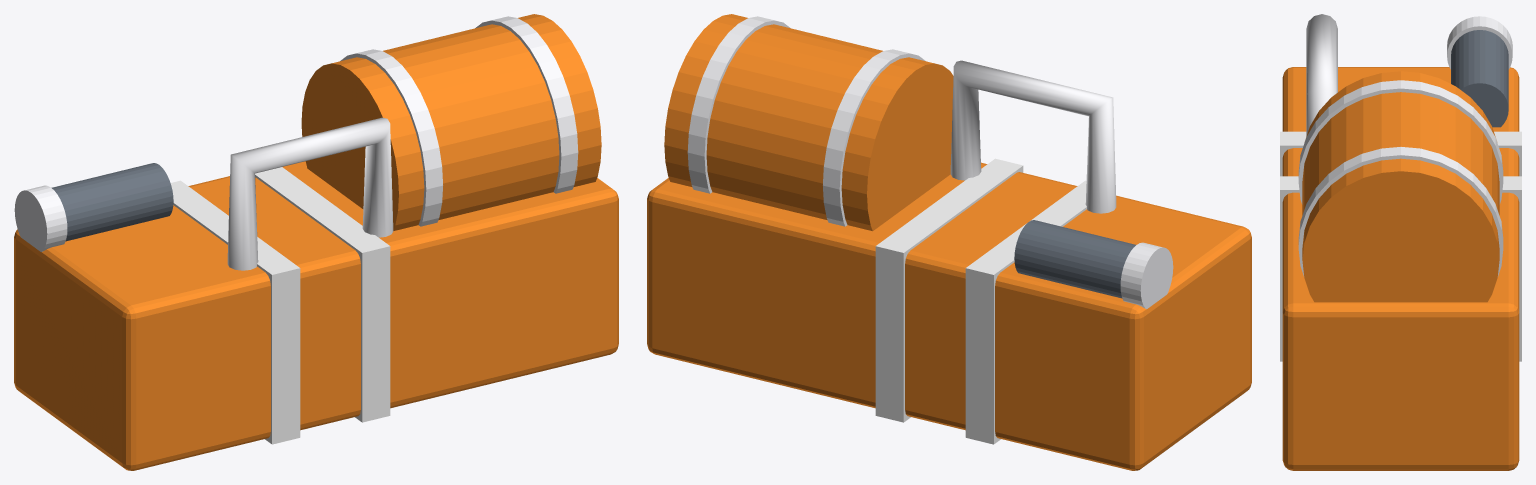
Rendered from black_box.glb.
The picture shows the model from 3 angles, left to right: view 1: azimuth 30°, elevation 25°; view 2: azimuth 150°, elevation 25°; view 3: azimuth 270°, elevation 25°; orthographic projection.
Parts seen in each view (by area): view 1: BlackBox_Chassis, BlackBox_CSMU, BlackBox_Recovery_Handle, Reflective_Stripe_0.0, Reflective_Stripe_-0.08, BlackBox_Beacon_Pinger, BlackBox_Clamp_0.06, BlackBox_Clamp_0.18, BlackBox_Transducer_Head; view 2: BlackBox_Chassis, BlackBox_CSMU, BlackBox_Recovery_Handle, Reflective_Stripe_0.0, Reflective_Stripe_-0.08, BlackBox_Beacon_Pinger, BlackBox_Clamp_0.06, BlackBox_Clamp_0.18, BlackBox_Transducer_Head; view 3: BlackBox_Chassis, BlackBox_CSMU, BlackBox_Beacon_Pinger, BlackBox_Clamp_0.18, BlackBox_Clamp_0.06, BlackBox_Recovery_Handle, Reflective_Stripe_0.0, BlackBox_Transducer_Head, Reflective_Stripe_-0.08.
Boxes of the visible parts, <box> form: BlackBox_Chassis: <box>14,161,618,470</box>; BlackBox_CSMU: <box>301,14,601,230</box>; BlackBox_Recovery_Handle: <box>227,117,393,270</box>; Reflective_Stripe_0.0: <box>255,167,390,422</box>; Reflective_Stripe_-0.08: <box>170,180,300,444</box>; BlackBox_Beacon_Pinger: <box>51,163,173,241</box>; BlackBox_Clamp_0.06: <box>340,49,442,226</box>; BlackBox_Clamp_0.18: <box>475,16,578,193</box>; BlackBox_Transducer_Head: <box>14,185,67,251</box>; BlackBox_Chassis: <box>647,162,1251,470</box>; BlackBox_CSMU: <box>664,14,953,231</box>; BlackBox_Recovery_Handle: <box>950,60,1116,213</box>; Reflective_Stripe_0.0: <box>875,158,1023,422</box>; Reflective_Stripe_-0.08: <box>965,180,1086,444</box>; BlackBox_Beacon_Pinger: <box>1014,220,1135,298</box>; BlackBox_Clamp_0.06: <box>823,49,925,226</box>; BlackBox_Clamp_0.18: <box>687,16,790,193</box>; BlackBox_Transducer_Head: <box>1120,242,1173,309</box>; BlackBox_Chassis: <box>1282,67,1519,470</box>; BlackBox_CSMU: <box>1302,71,1499,302</box>; BlackBox_Beacon_Pinger: <box>1451,30,1508,127</box>; BlackBox_Clamp_0.18: <box>1298,147,1503,276</box>; BlackBox_Clamp_0.06: <box>1298,80,1503,204</box>; BlackBox_Recovery_Handle: <box>1306,14,1337,136</box>; Reflective_Stripe_0.0: <box>1280,176,1521,361</box>; BlackBox_Transducer_Head: <box>1447,16,1512,69</box>; Reflective_Stripe_-0.08: <box>1280,131,1521,176</box>.
Bounding box in the file's own units: 0.44 × 0.255 × 0.184.
